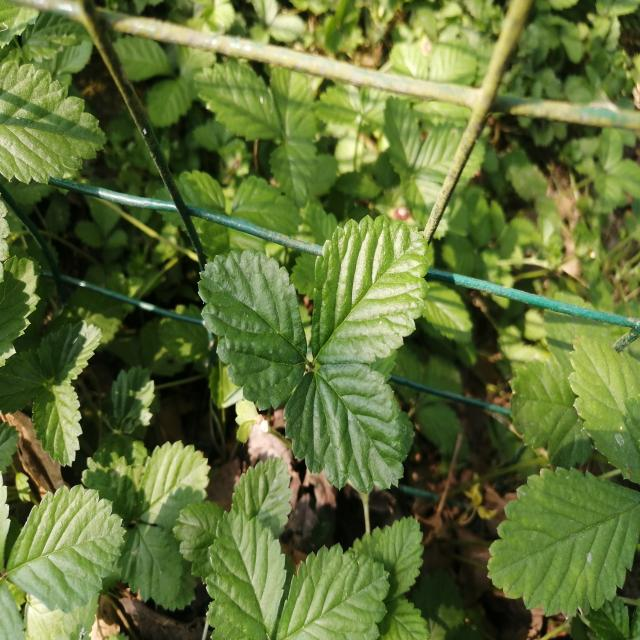Mock_strawberry: (216, 216, 435, 464)
